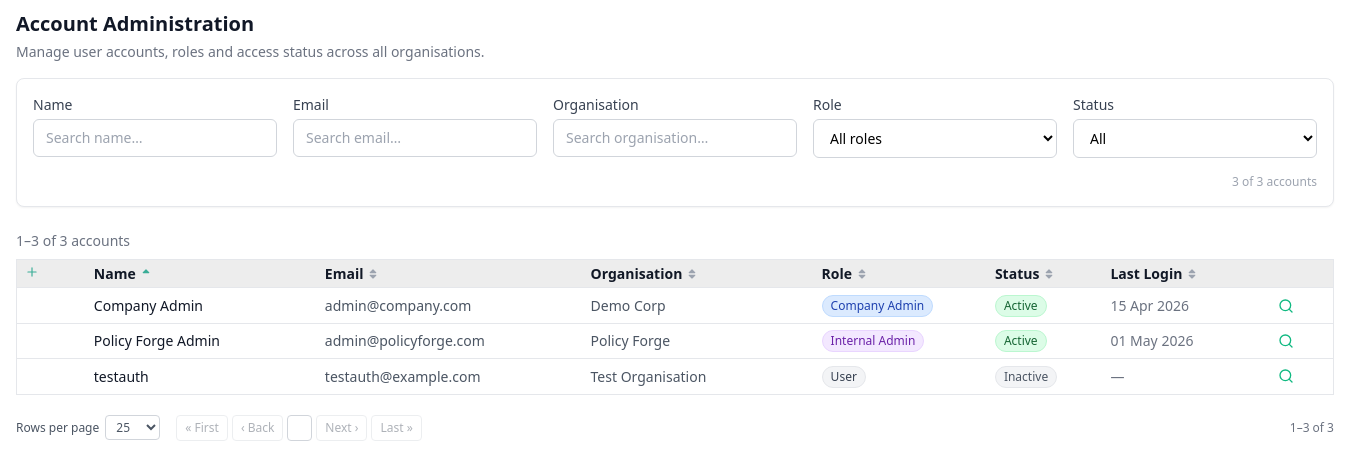
T-SETTINGS-USERS-R03: search filters reduce displayed rows › filters table by role dropdown
Select "Internal Admin" in the dropdown named "Filter by role" at [935, 138], box left=813, top=119, right=1057, bottom=158
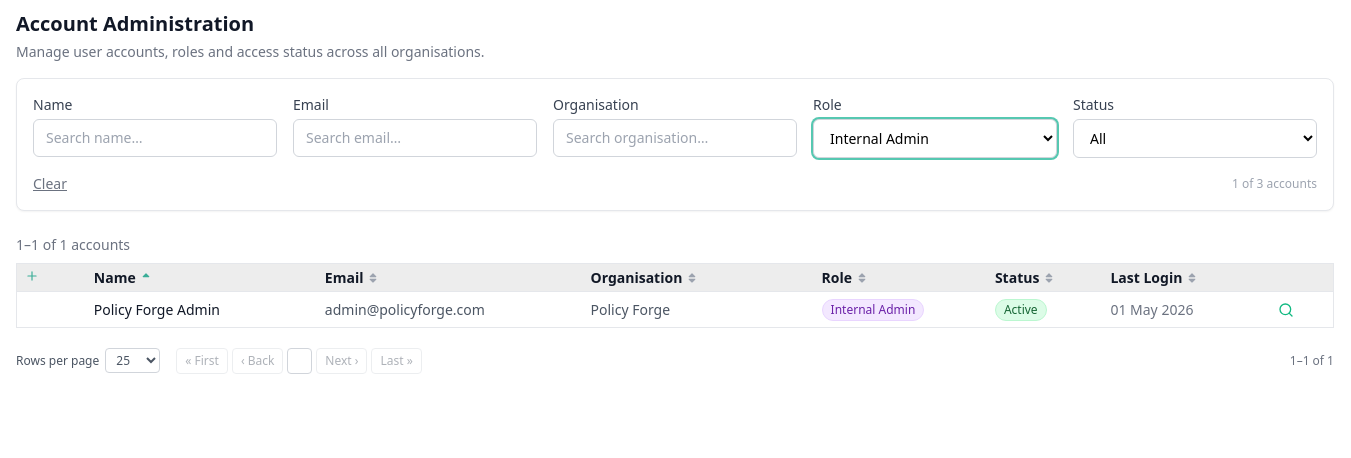
Expected: the text "Policy Forge Admin" is shown, left=94, top=300, right=220, bottom=319
Expected: the text "admin@company.com" is gone
